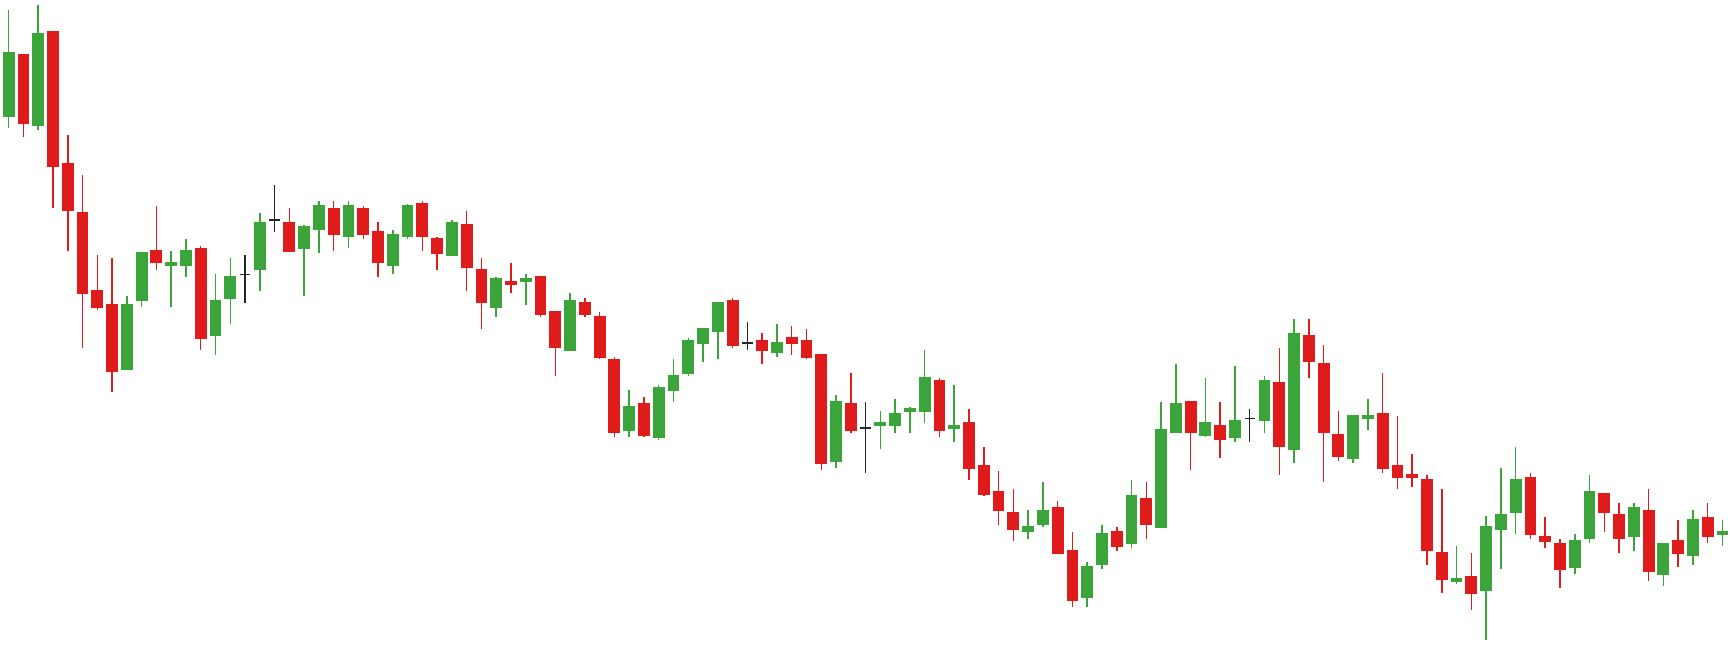sell: (1168, 317, 1316, 419), (844, 348, 947, 442)
